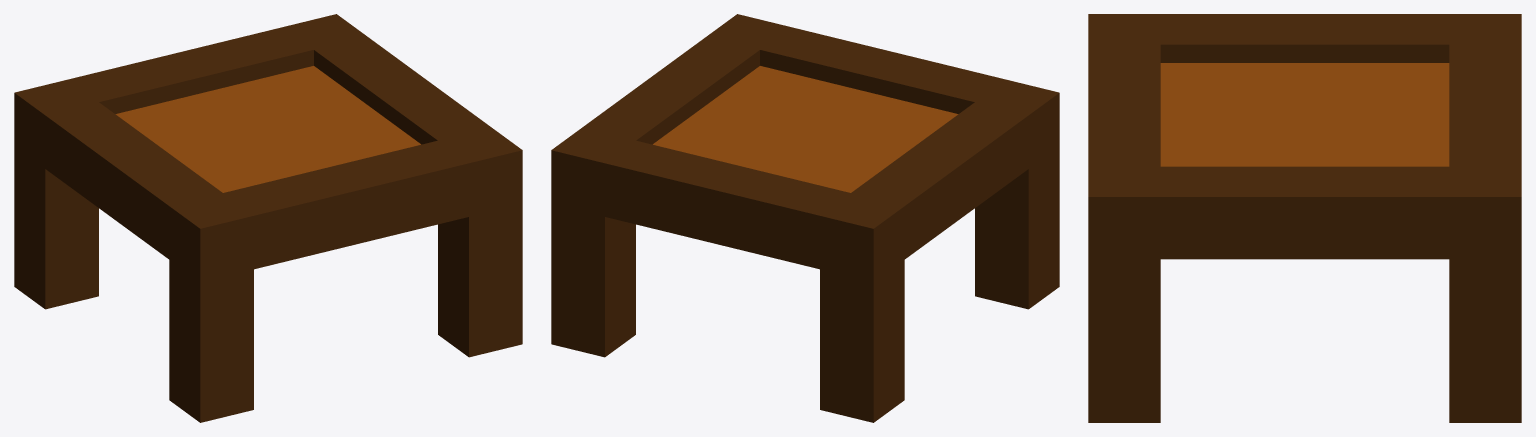
File: table.fbx
The picture shows the model from 3 angles, left to right: view 1: azimuth 30°, elevation 25°; view 2: azimuth 150°, elevation 25°; view 3: azimuth 270°, elevation 25°; orthographic projection. The views are drawn at different scales.
Visible parts, largest first — view 1: Cube.009; view 2: Cube.009; view 3: Cube.009.
Part boxes in pixels (x1,y1,x2,y2): Cube.009: (14, 14, 522, 422); Cube.009: (551, 14, 1059, 422); Cube.009: (1088, 14, 1521, 422).
Size of the model in its own units: 272 by 157 by 272.
